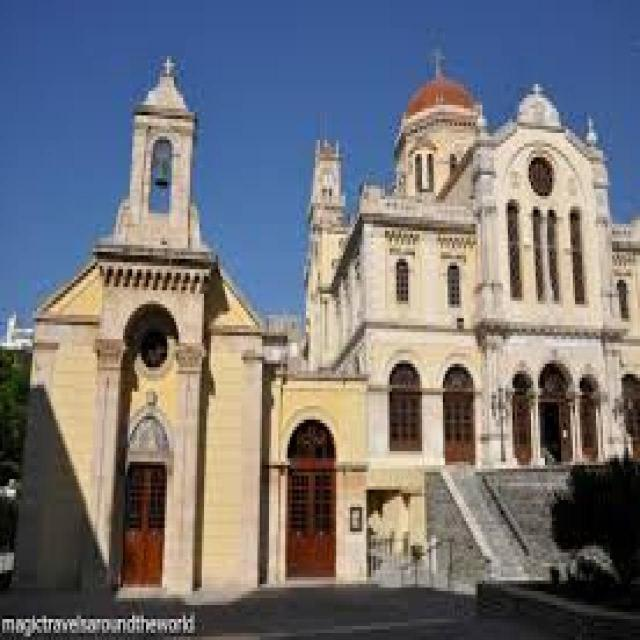Agios Minas: (17, 20, 640, 592)
